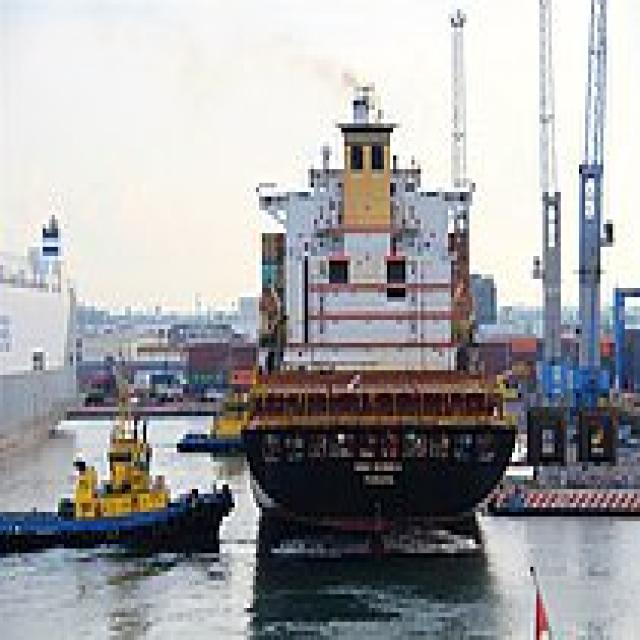Cargo: (232, 73, 521, 544)
